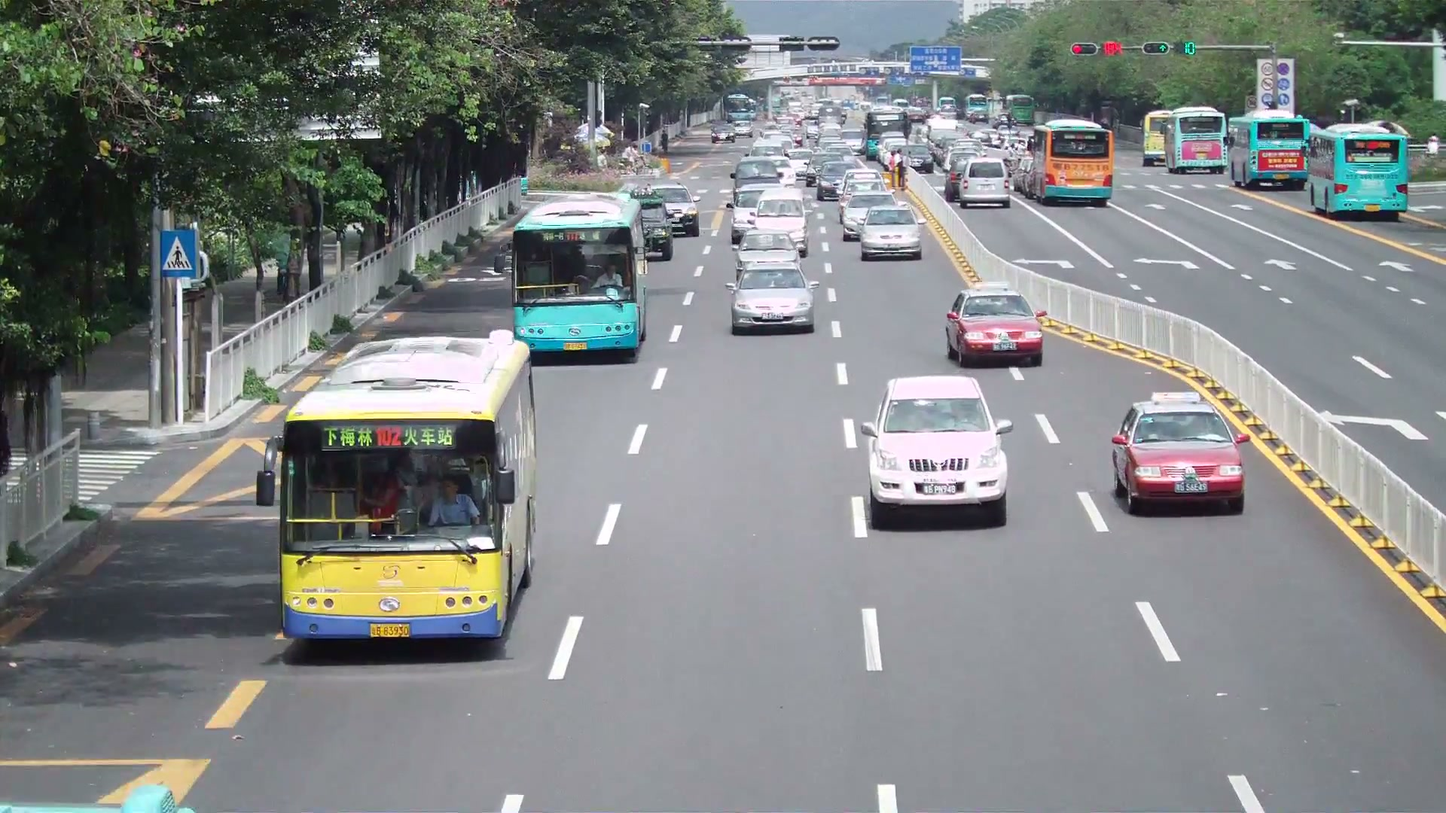bus: (273, 330, 539, 645), (510, 192, 647, 360), (1305, 122, 1411, 216), (1038, 116, 1114, 206), (1226, 112, 1310, 190), (1142, 106, 1227, 172)
car: (858, 375, 1015, 529), (1110, 396, 1246, 516), (943, 287, 1045, 368), (729, 254, 815, 334), (857, 205, 924, 261), (957, 158, 1013, 210)
pedestrian: (359, 467, 403, 537), (427, 473, 481, 527)
